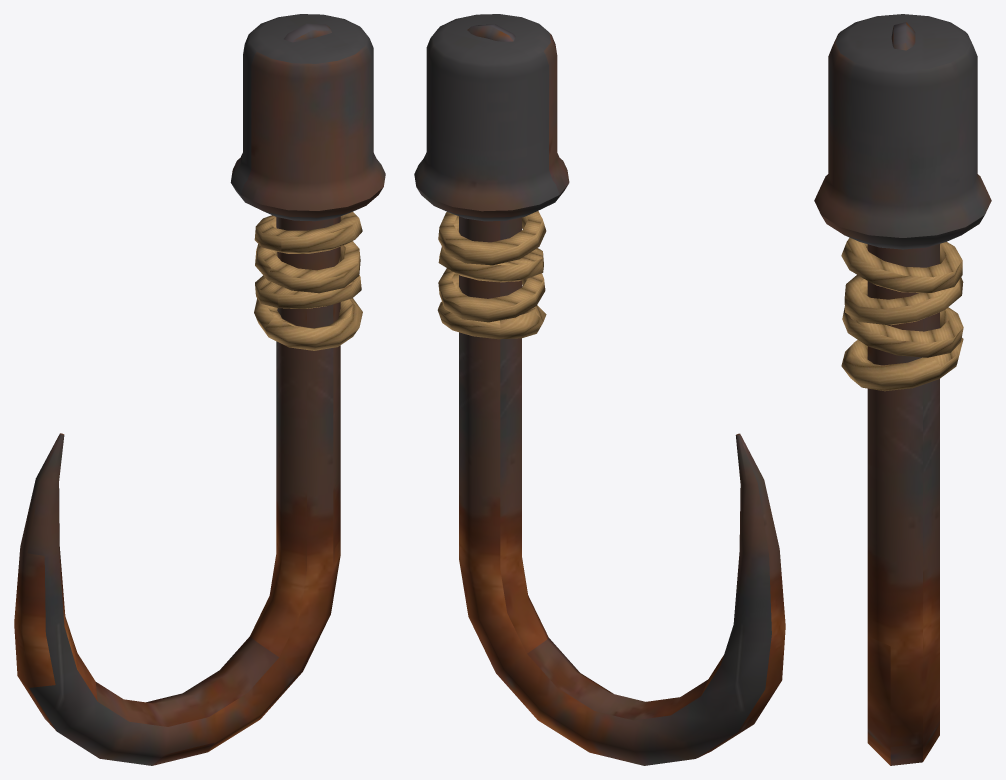
The model's file is Hook.glb.
3 views of the same model, side by side, from view 1: azimuth 30°, elevation 25°; view 2: azimuth 150°, elevation 25°; view 3: azimuth 270°, elevation 25° (orthographic). The views are drawn at different scales.
Visible parts, largest first — view 1: Hook; view 2: Hook; view 3: Hook.
Boxes of the visible parts, x1,y1,x2,y2 form: Hook: [14, 14, 385, 765]; Hook: [414, 14, 785, 765]; Hook: [814, 14, 991, 765].
Size of the model in its own units: 0.2002 by 0.374 by 0.076.
Materials: 3 (3 with a texture image).
